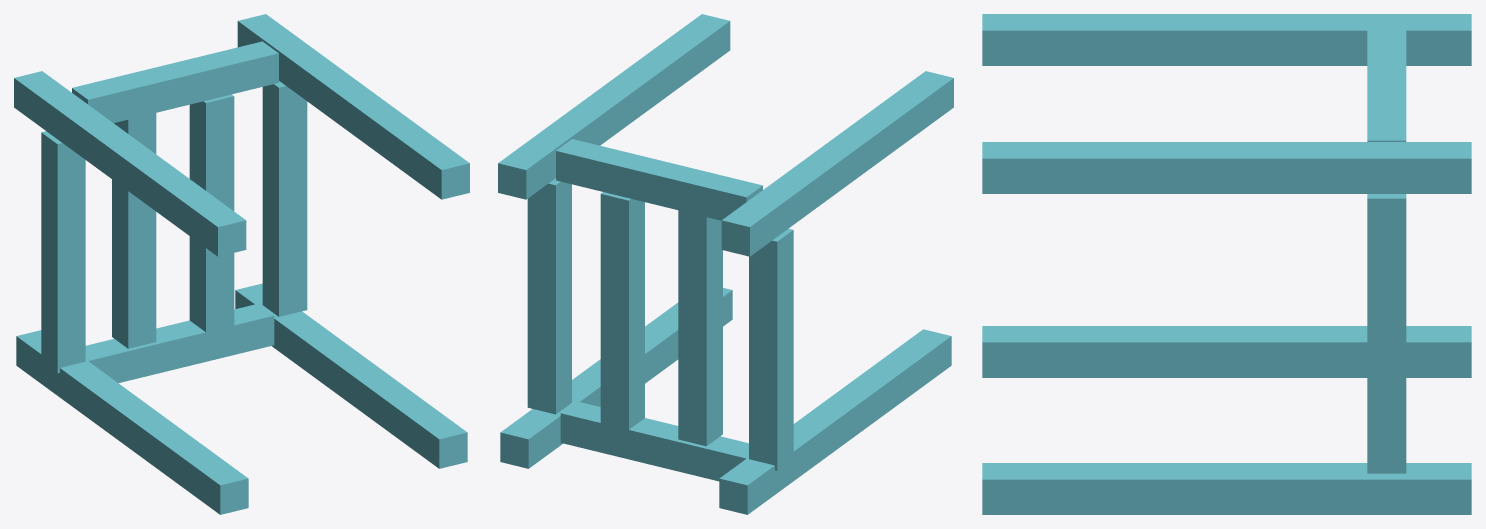
Rendered from tinker.obj.
3 renders of one model, left to right at view 1: azimuth 30°, elevation 25°; view 2: azimuth 150°, elevation 25°; view 3: azimuth 270°, elevation 25°, orthographic. The views are drawn at different scales.
Parts seen in each view (by area): view 1: obj_0; view 2: obj_0; view 3: obj_0.
Part boxes in pixels (x1,y1,x2,y2): obj_0: (14,14,469,514); obj_0: (498,14,953,514); obj_0: (982,14,1471,514).
Bounding box in the file's own units: 107 × 121 × 150.
